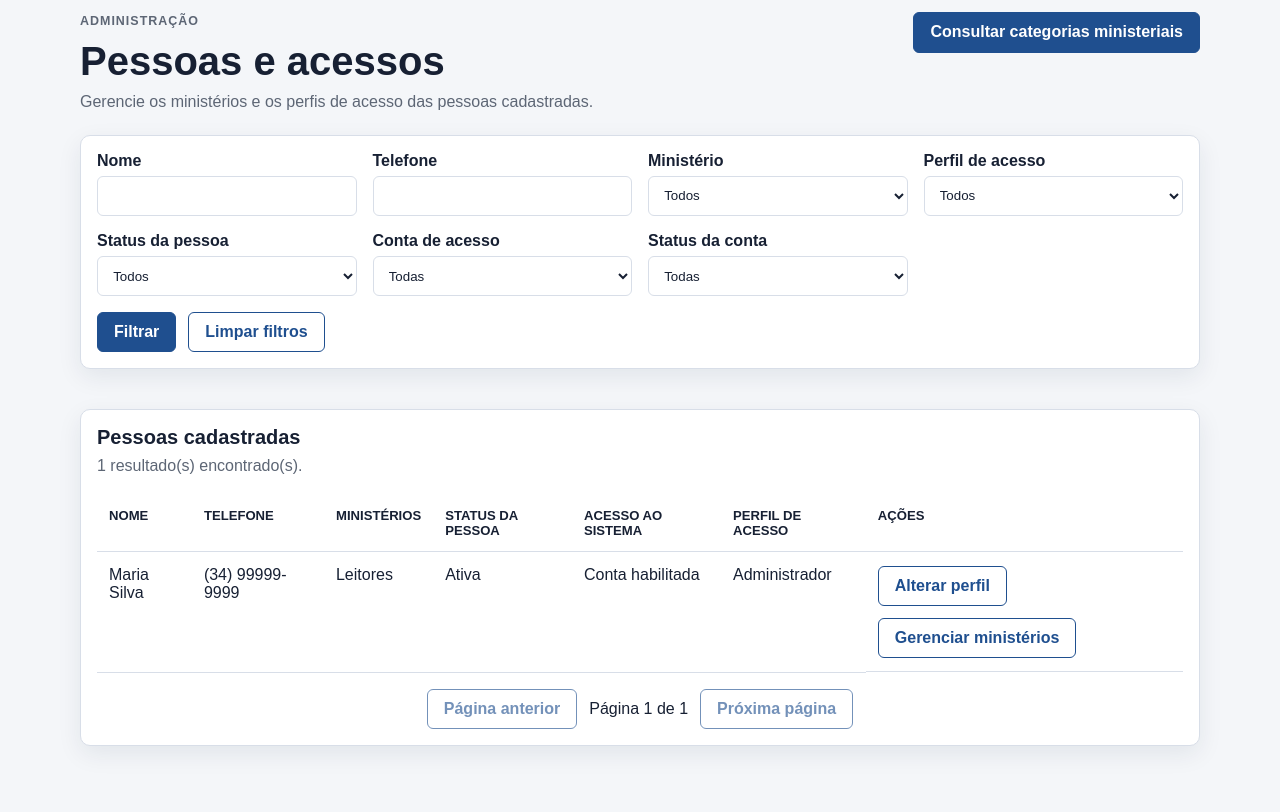
Test: AdminUserManagementComponent › accountExists=false constraint › should re-enable role and accountEnabled without restoring previous values when leaving "Sem conta"
The image size is (1280, 812).
Select "Administrador" in the dropdown with id "user-role": (1053, 196) x1=924 y1=176 x2=1183 y2=216
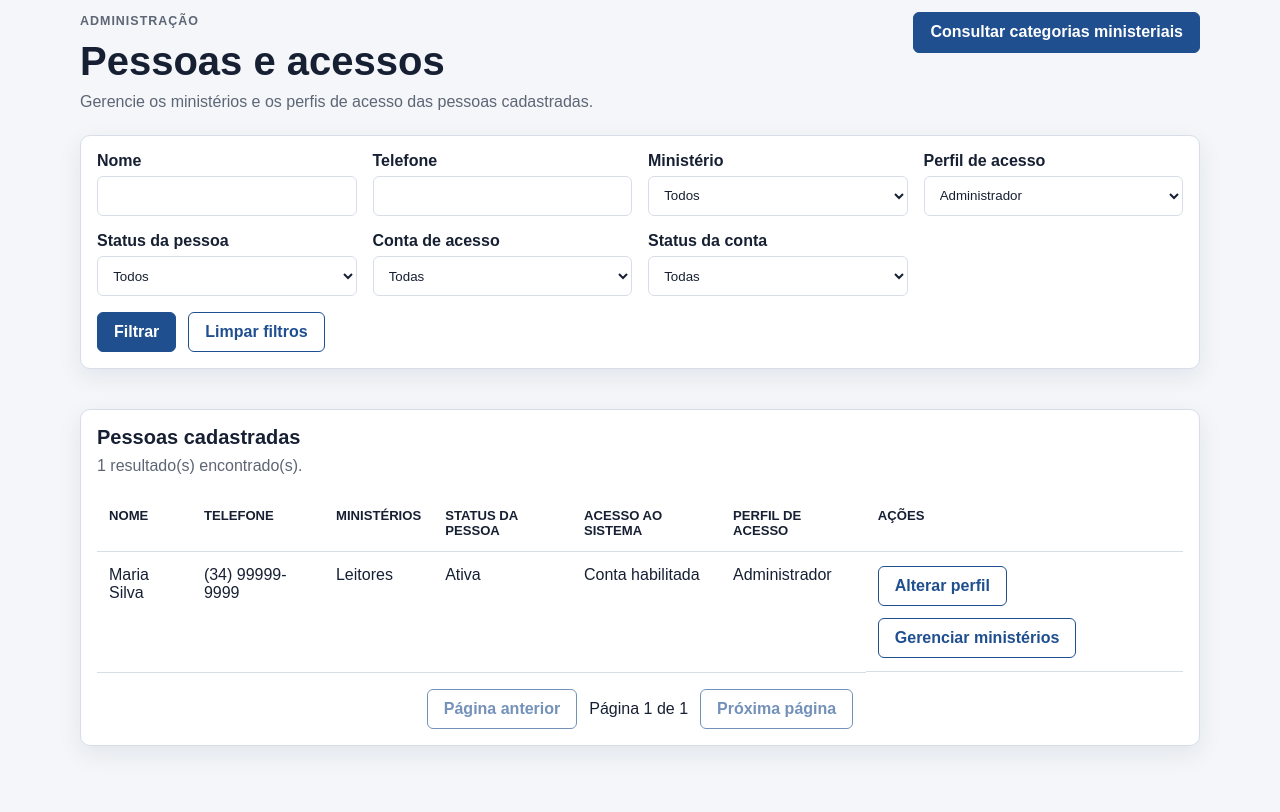
Select "Habilitadas" in the dropdown with id "user-account-enabled": (778, 276) x1=648 y1=256 x2=908 y2=296
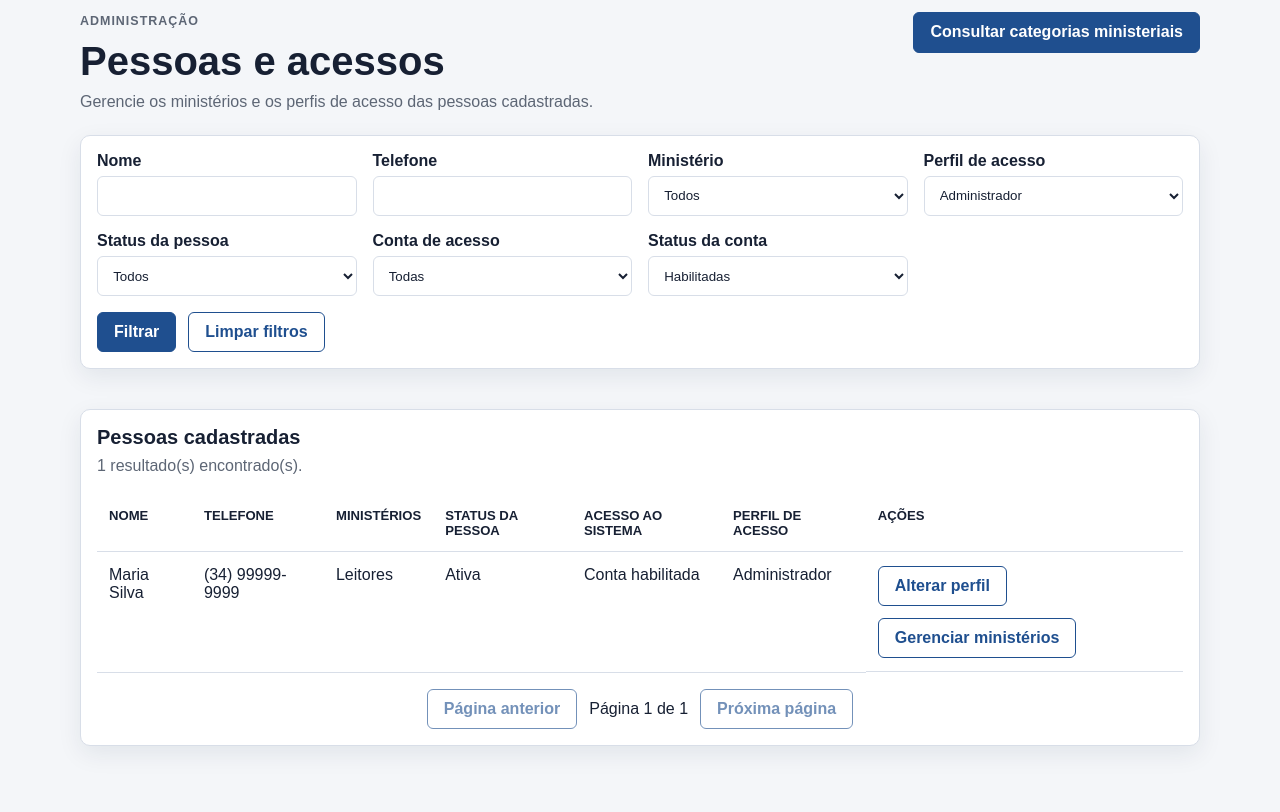
Select "Sem conta" in the dropdown with id "user-account-exists": (502, 276) x1=372 y1=256 x2=632 y2=296
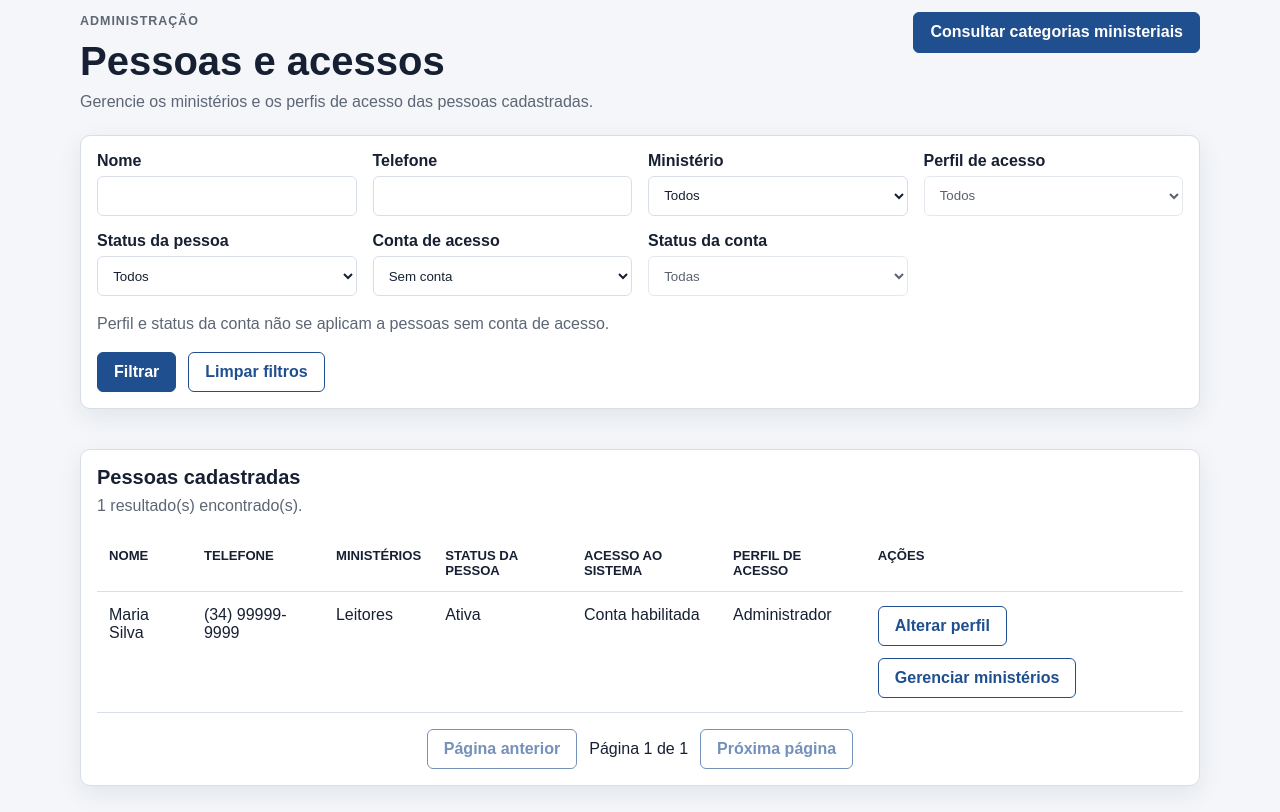
Select "Todas" in the dropdown with id "user-account-exists": (502, 276) x1=372 y1=256 x2=632 y2=296
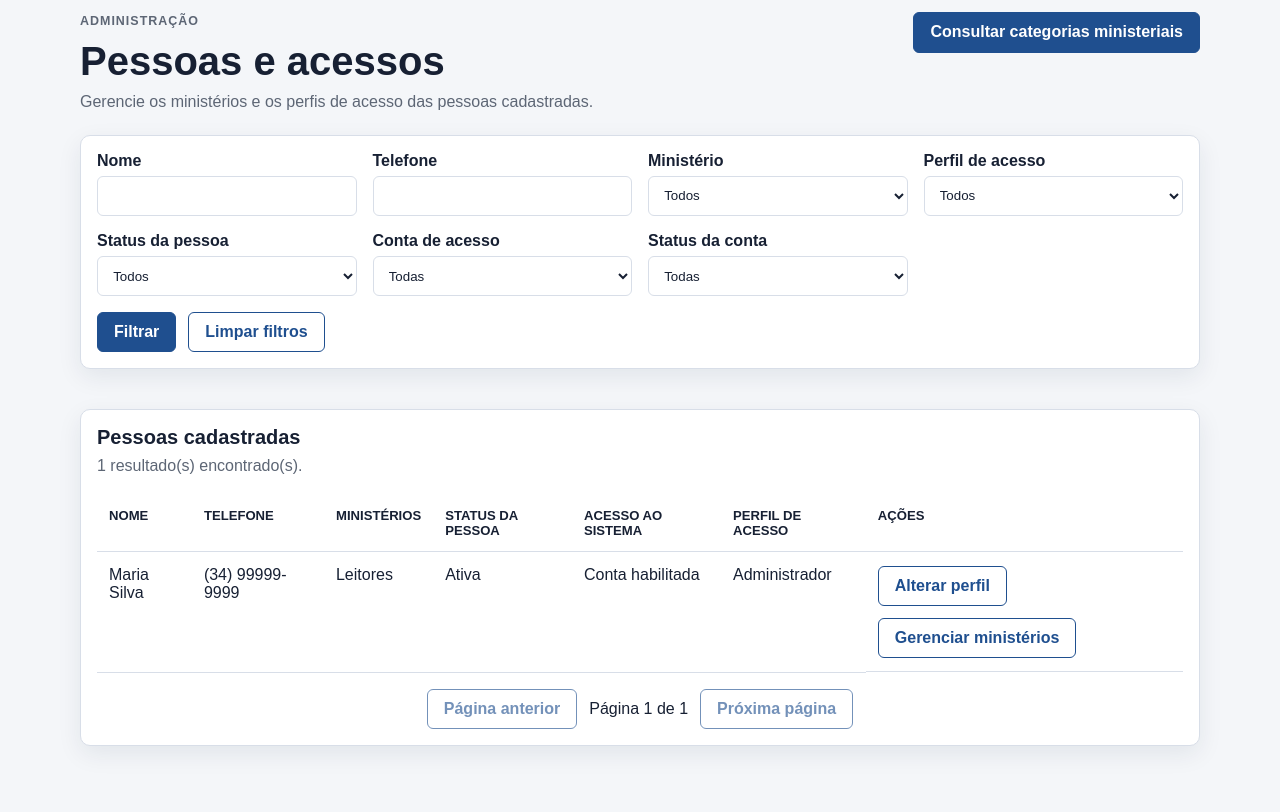
Now the dropdown with id "user-role" is enabled, box x1=924 y1=176 x2=1183 y2=216
Now the dropdown with id "user-account-enabled" is enabled, box x1=648 y1=256 x2=908 y2=296
